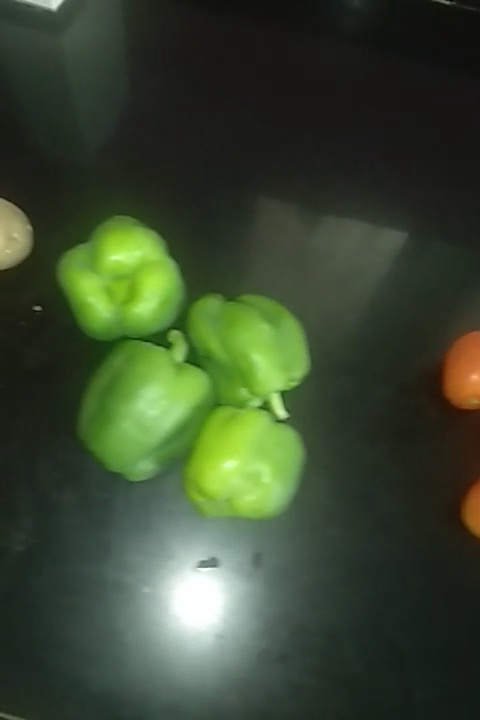capsicum: (81, 339, 216, 480), (58, 211, 187, 349), (185, 291, 307, 412), (199, 392, 314, 513)
potato: (1, 195, 39, 268)
tomato: (440, 330, 480, 424), (455, 474, 480, 543)
